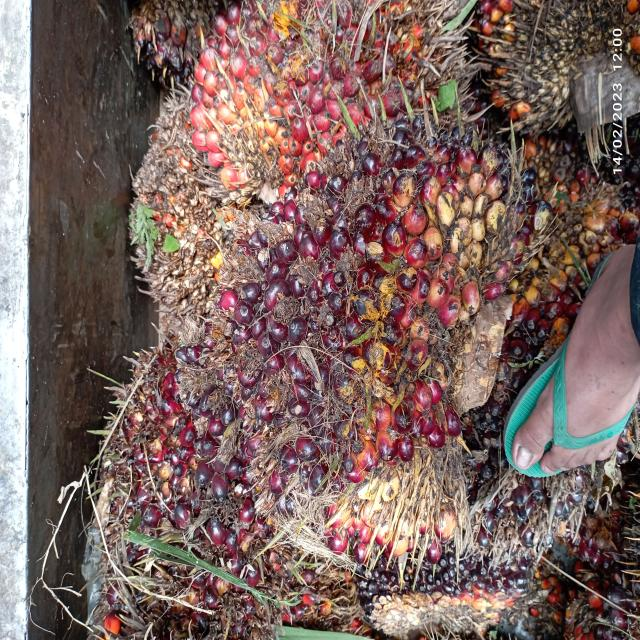fraksi 1: (209, 100, 522, 522), (75, 355, 270, 631)
fraksi 3: (177, 0, 389, 247)
